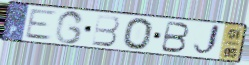B: (159, 20, 191, 54), (91, 14, 121, 48)
E: (23, 8, 60, 41)
G: (53, 10, 86, 46)
J: (191, 22, 222, 58)
O: (122, 17, 155, 52)
